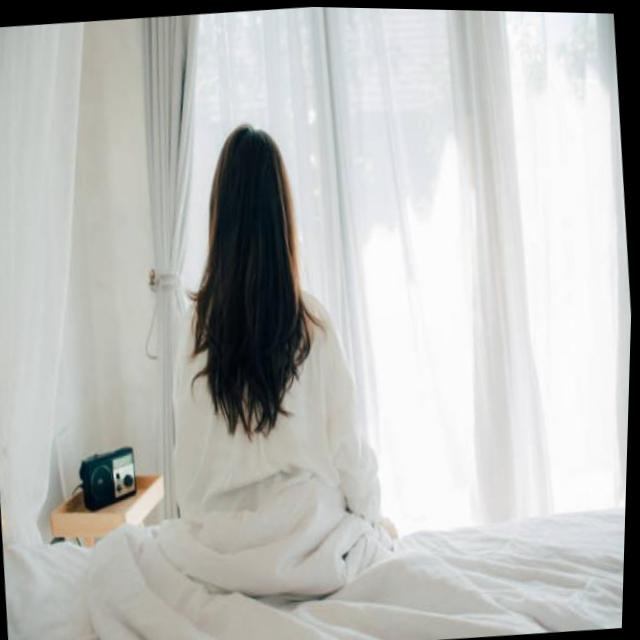no helmet: (191, 113, 320, 290)
